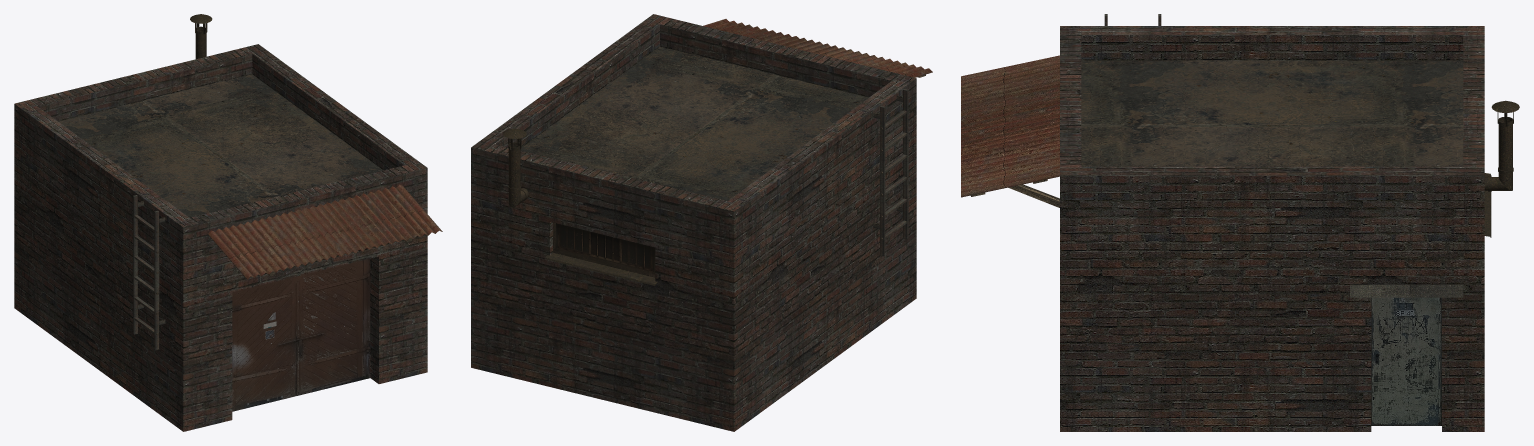
The model's file is garage_hm_2.glb.
3 renders of one model, left to right at view 1: azimuth 30°, elevation 25°; view 2: azimuth 150°, elevation 25°; view 3: azimuth 270°, elevation 25°, orthographic. The views are drawn at different scales.
Visible parts, largest first — view 1: garage_hm_2; view 2: garage_hm_2; view 3: garage_hm_2.
Part boxes in pixels (box(x1,y1,x2,y2)): garage_hm_2: box(14, 14, 442, 431); garage_hm_2: box(471, 14, 932, 431); garage_hm_2: box(961, 14, 1519, 431).
Size of the model in its own units: 5.22 by 4.7 by 7.9.
Materials: 10 (10 with a texture image).
